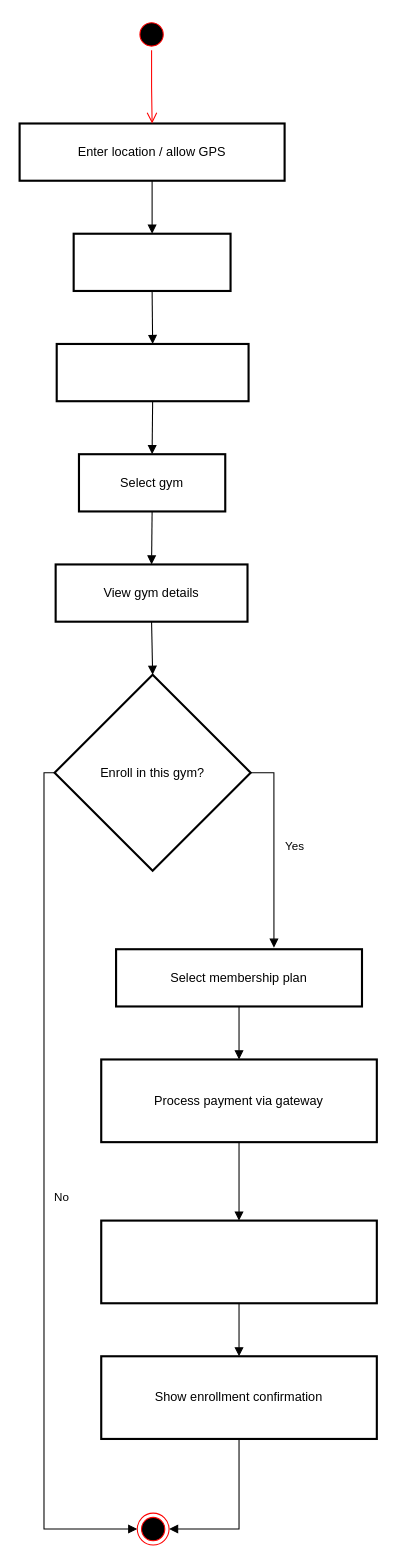
Some shapes in this 395 by 1563 pixel diagram are drawn without their labels. The centre of each missing label's shape, as x and y in pixels:
"Create GymMembership + Subscription" goes at (x=238, y=1261).
"Search gyms" goes at (x=151, y=262).
"View gym results" goes at (x=152, y=372).
